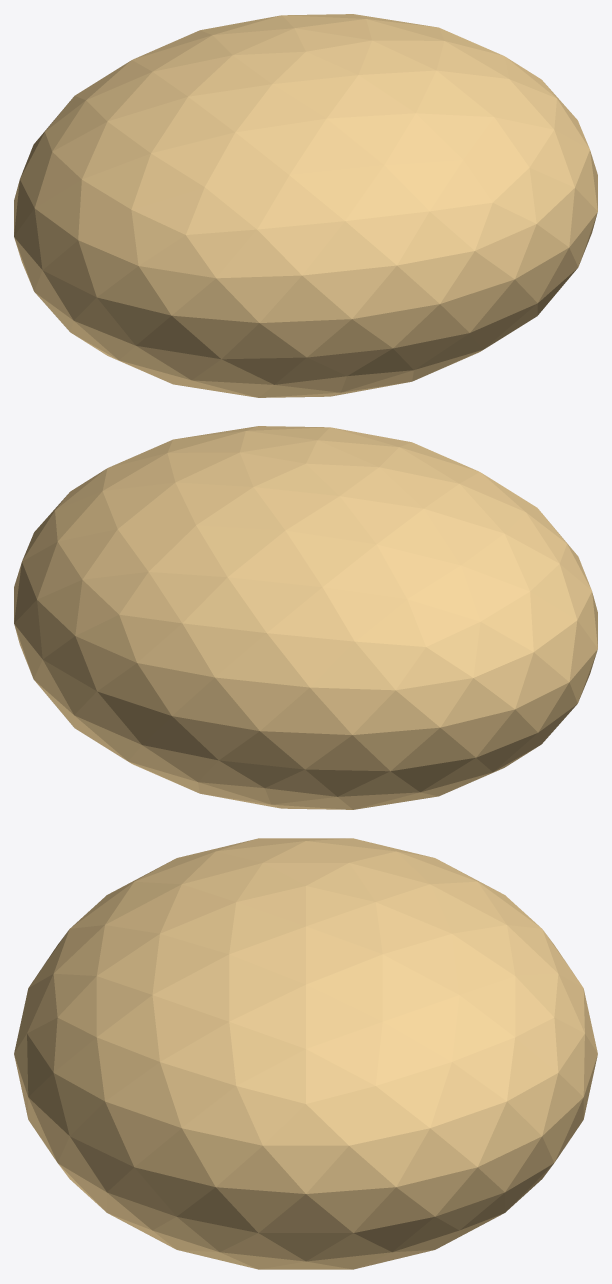
The model's file is YeastDough.glb.
3 renders of one model, top to bottom at view 1: azimuth 30°, elevation 25°; view 2: azimuth 150°, elevation 25°; view 3: azimuth 270°, elevation 25°, orthographic. The views are drawn at different scales.
Parts seen in each view (by area): view 1: YeastedDoughMainMass; view 2: YeastedDoughMainMass; view 3: YeastedDoughMainMass.
Boxes of the visible parts, box(x1,y1,x2,y2) form: YeastedDoughMainMass: box(14, 14, 597, 397); YeastedDoughMainMass: box(14, 426, 597, 809); YeastedDoughMainMass: box(14, 838, 597, 1269).
Bounding box in the file's own units: 1.68 × 0.94 × 1.48.
